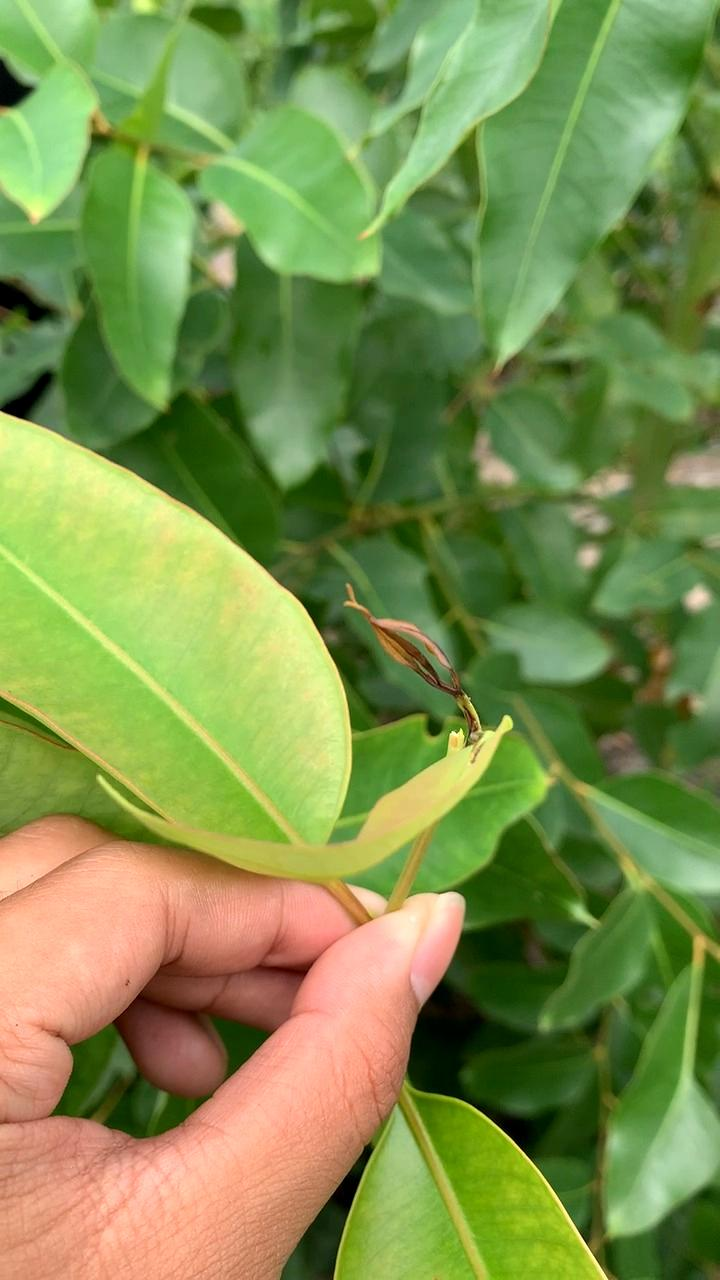Helopeltis-Withered Sprout: (343, 583, 489, 735)
